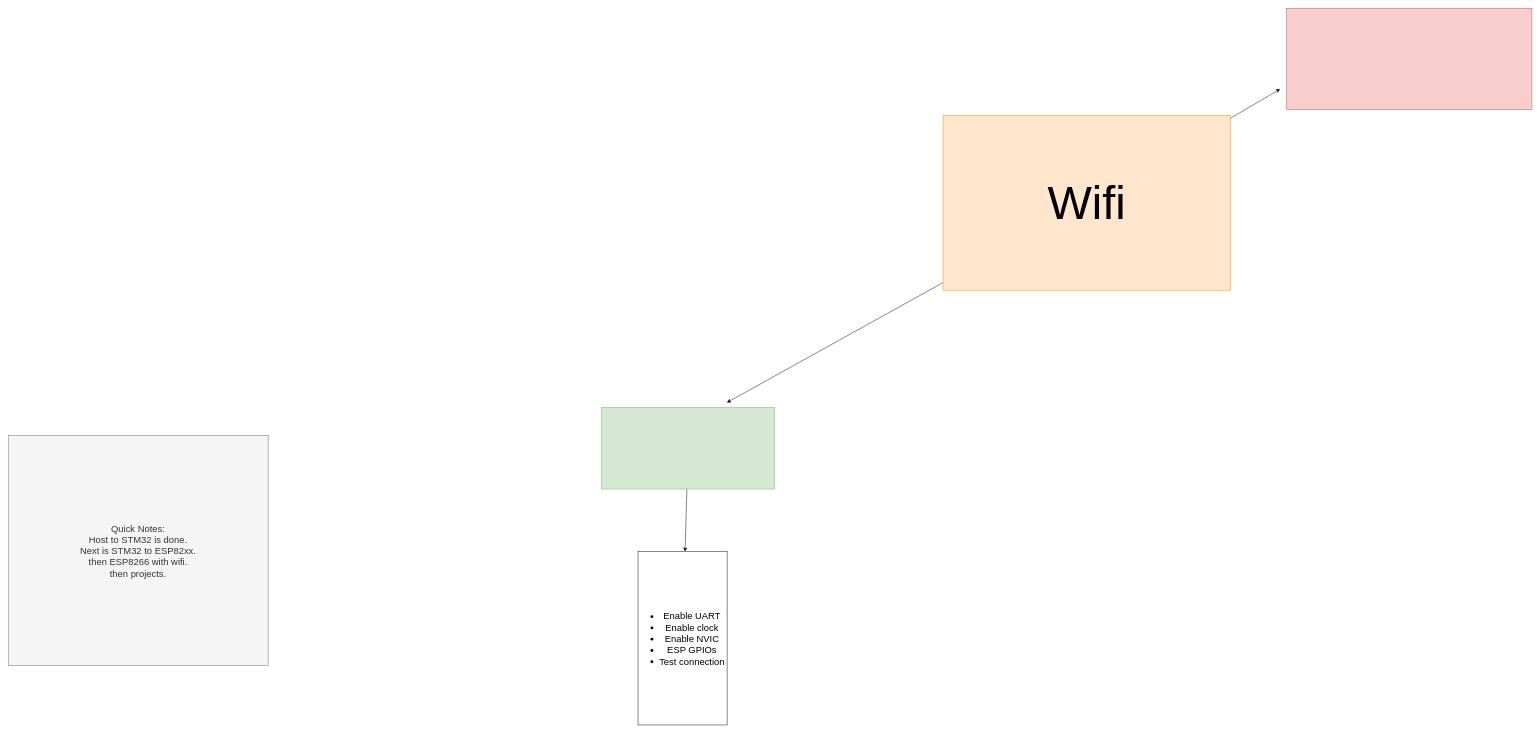
This 1540x733 diagram has some shape labels left out. Each missing label, with the box of its shape:
With HAL: (1286, 8, 1532, 110)
without HAL: (601, 407, 775, 489)
